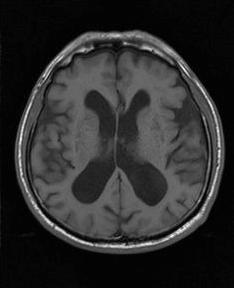Normal_Brain: (14, 17, 234, 288)
